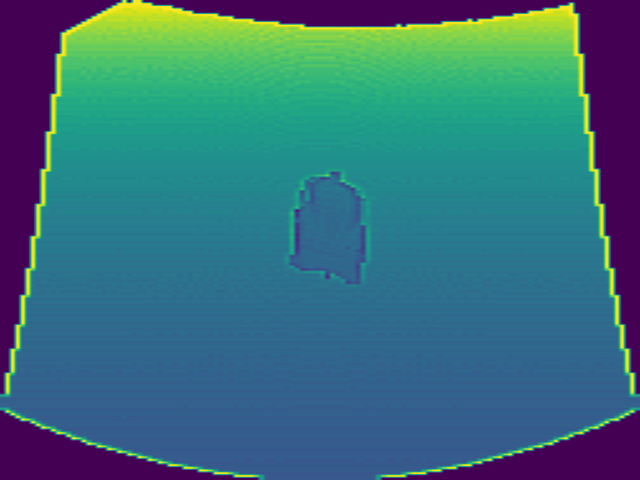car_0027: (285, 171, 373, 288)
